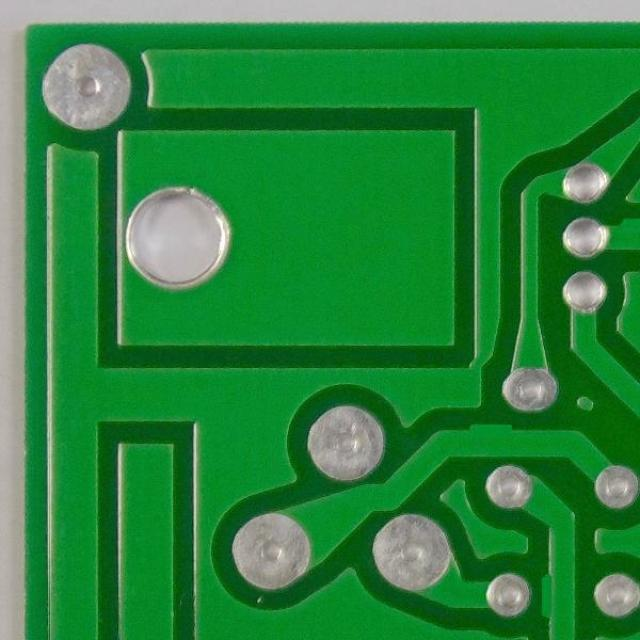spur: (532, 570, 573, 620), (464, 416, 524, 445), (614, 216, 639, 244)
